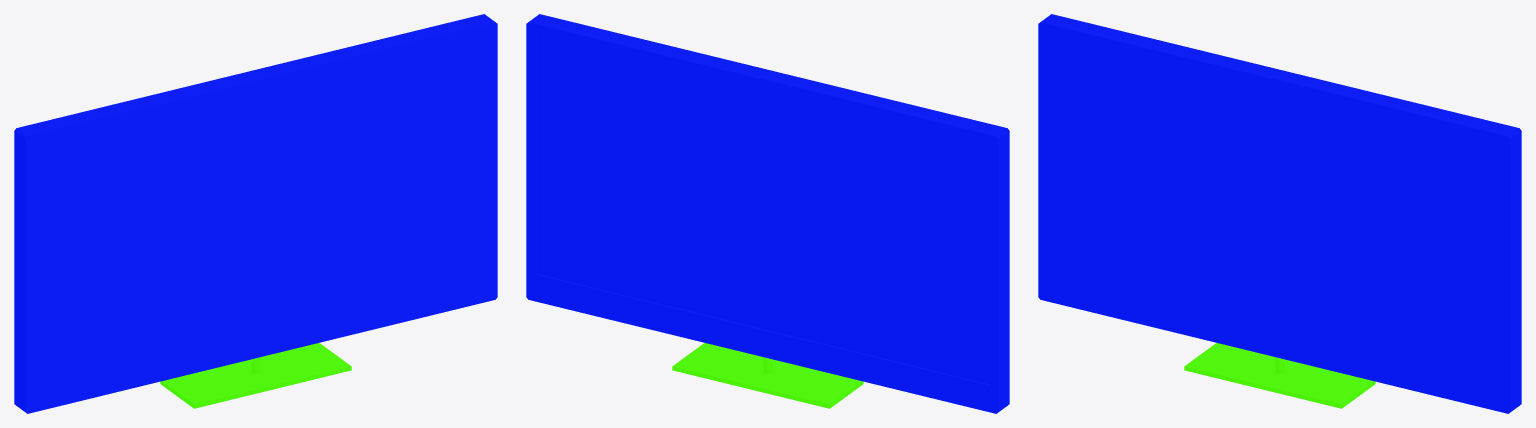
3 renders of one model, left to right at view 1: azimuth 30°, elevation 25°; view 2: azimuth 150°, elevation 25°; view 3: azimuth 330°, elevation 25°, orthographic.
Visible parts, largest first — view 1: TV; view 2: TV; view 3: TV.
Part boxes in pixels (left/top/right/bottom): TV: left=14, top=14, right=497, bottom=413; TV: left=526, top=14, right=1009, bottom=413; TV: left=1038, top=14, right=1521, bottom=413.
Bounding box in the file's own units: 121 × 74 × 15.
